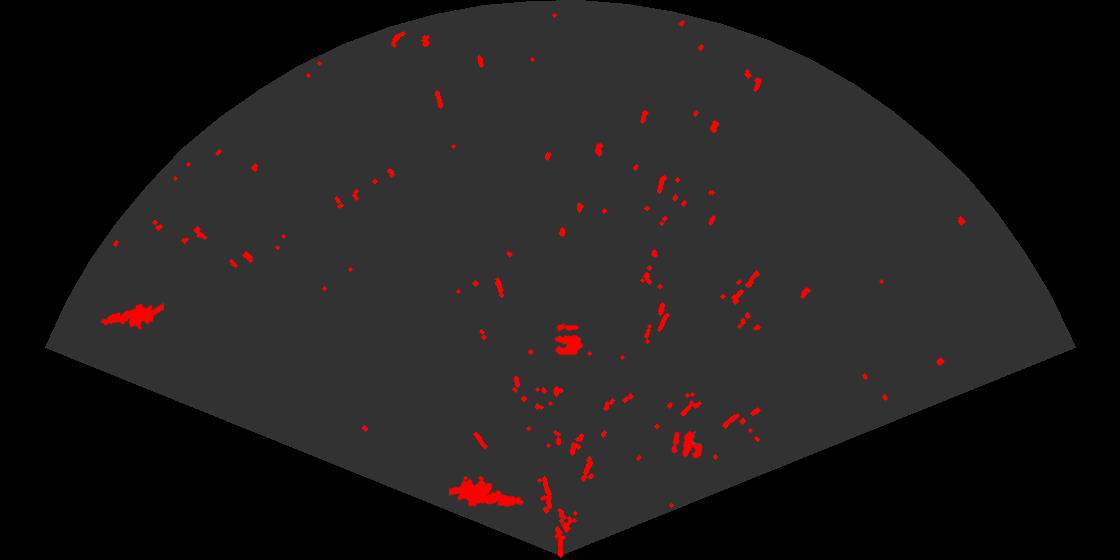ball: (670, 429, 704, 461), (553, 323, 584, 356)
frogman: (449, 474, 525, 508), (99, 301, 164, 331)
